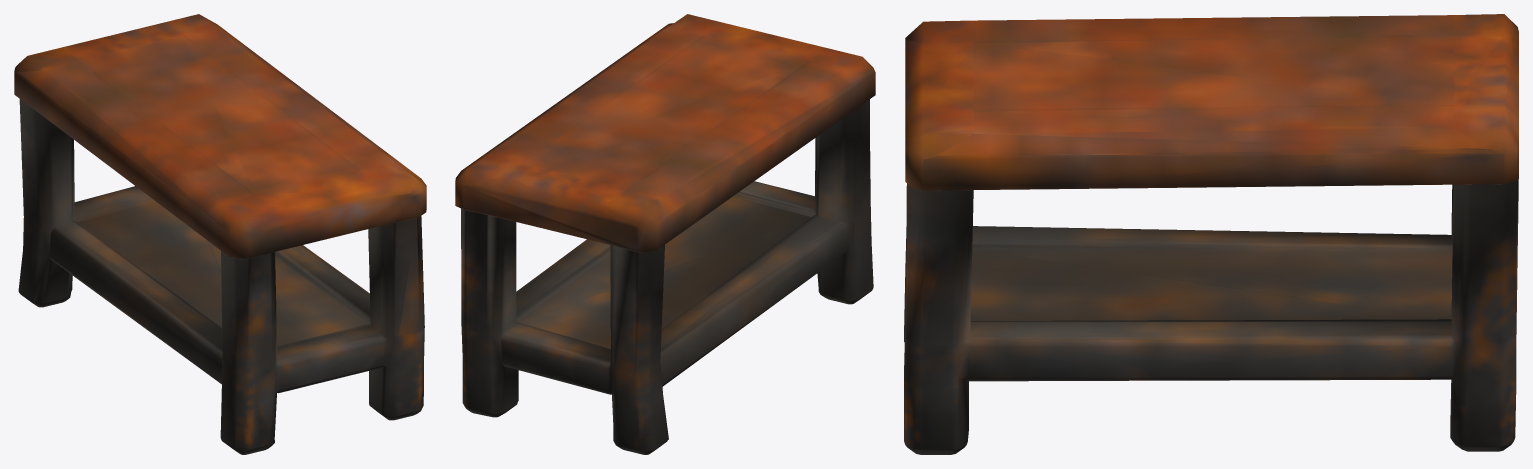
Rendered from workbench.glb.
The picture shows the model from 3 angles, left to right: view 1: azimuth 30°, elevation 25°; view 2: azimuth 150°, elevation 25°; view 3: azimuth 270°, elevation 25°; orthographic projection. The views are drawn at different scales.
Parts seen in each view (by area): view 1: tripo_node_21aebe08-8d74-4a69-88d8-314b163e2ab5; view 2: tripo_node_21aebe08-8d74-4a69-88d8-314b163e2ab5; view 3: tripo_node_21aebe08-8d74-4a69-88d8-314b163e2ab5.
Part boxes in pixels (bbox=[...]): tripo_node_21aebe08-8d74-4a69-88d8-314b163e2ab5: bbox=[14, 14, 426, 454]; tripo_node_21aebe08-8d74-4a69-88d8-314b163e2ab5: bbox=[455, 14, 875, 454]; tripo_node_21aebe08-8d74-4a69-88d8-314b163e2ab5: bbox=[904, 14, 1518, 454].
Bounding box in the file's own units: 0.502 × 0.5879 × 0.998.
1 material, 1 textured.
